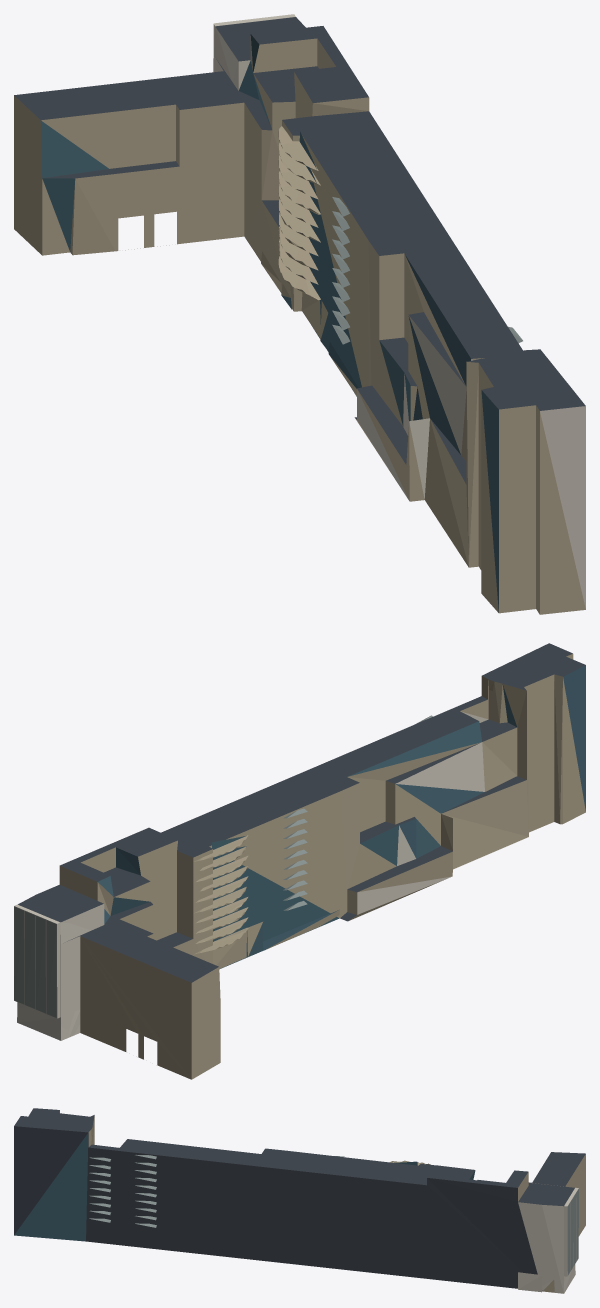
The model's file is mountain-network.lod2.glb.
3 views of the same model, one above another, from view 1: azimuth 30°, elevation 25°; view 2: azimuth 150°, elevation 25°; view 3: azimuth 270°, elevation 25° (orthographic). The views are drawn at different scales.
Parts seen in each view (by area): view 1: lod2; view 2: lod2; view 3: lod2.
Boxes of the visible parts, x1,y1,x2,y2 form: lod2: [14, 14, 585, 614]; lod2: [14, 643, 585, 1079]; lod2: [14, 1108, 585, 1293].
Size of the model in its own units: 65.8 by 43.74 by 207.
